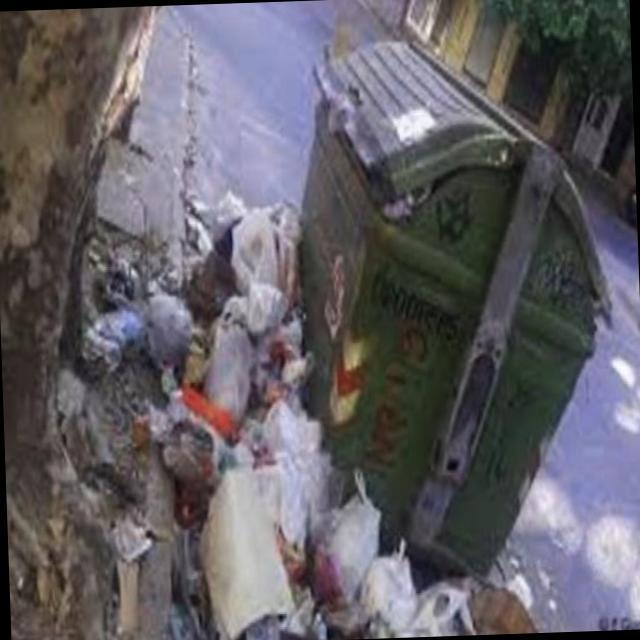garbage: (83, 180, 336, 640), (335, 452, 558, 639)
